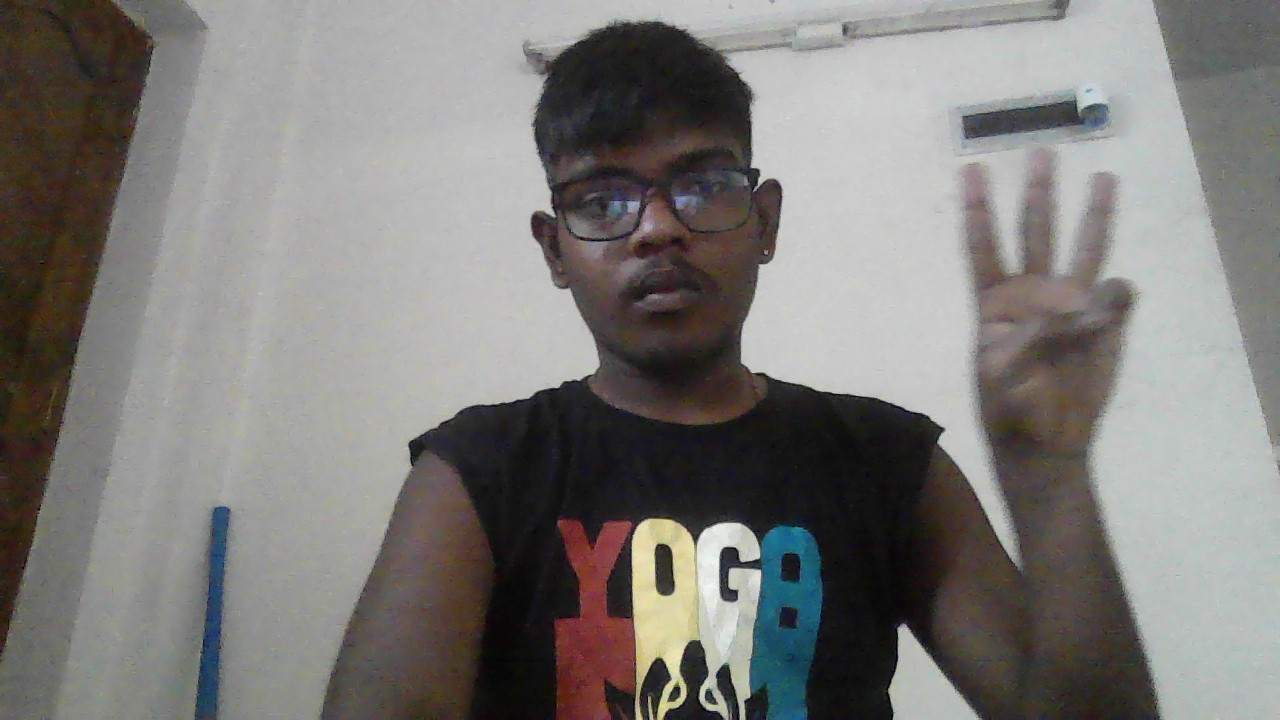W: (962, 145, 1133, 470)
